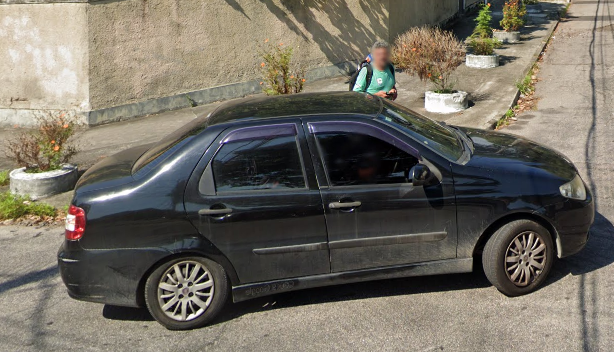car: (52, 90, 597, 330)
